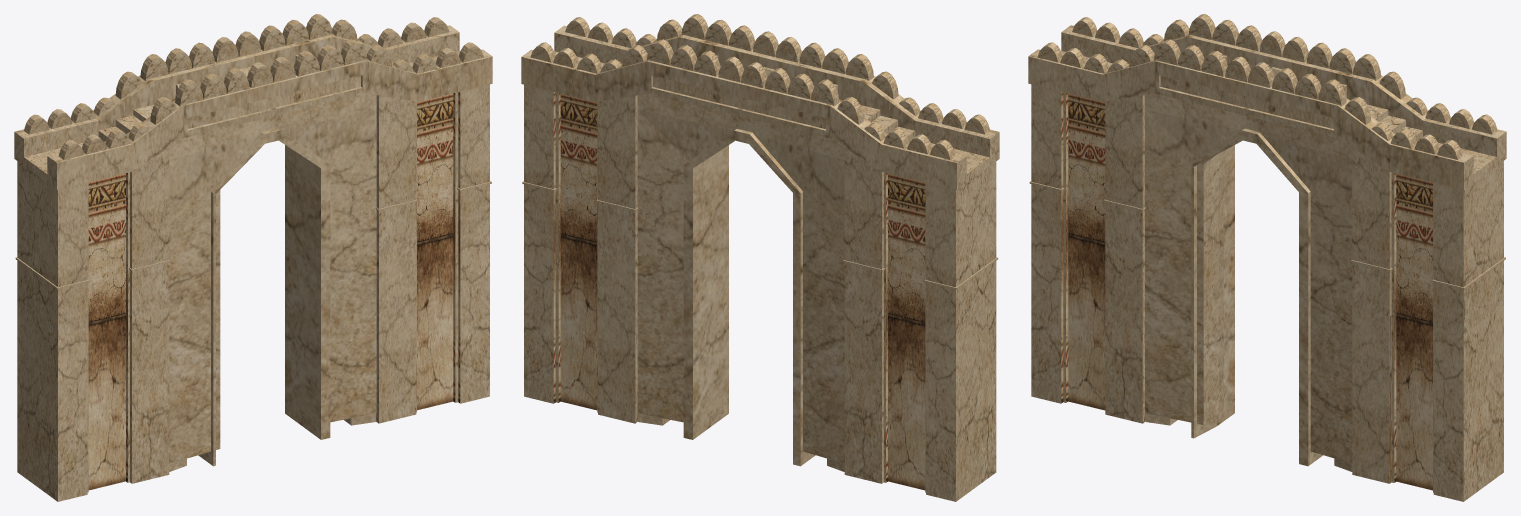
The model's file is wall_gate.dae.
The picture shows the model from 3 angles, left to right: view 1: azimuth 30°, elevation 25°; view 2: azimuth 150°, elevation 25°; view 3: azimuth 330°, elevation 25°; orthographic projection.
Parts seen in each view (by area): view 1: mesh; view 2: mesh; view 3: mesh.
Boxes of the visible parts, bbox=[...] form: mesh: bbox=[14, 14, 492, 501]; mesh: bbox=[521, 14, 999, 501]; mesh: bbox=[1028, 14, 1506, 501].
Size of the model in its own units: 36.4 by 6.18 by 31.16.
